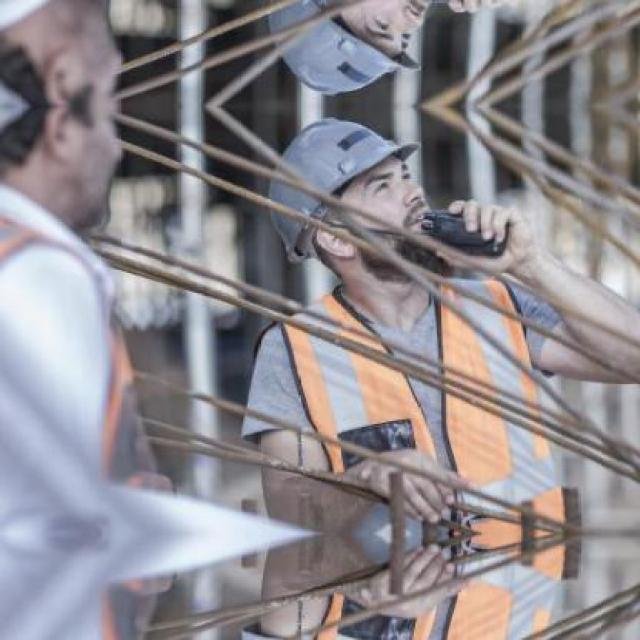Reflective-Jacket: (251, 265, 574, 640), (6, 172, 158, 640)
Safety-Helmet: (250, 108, 428, 264)
